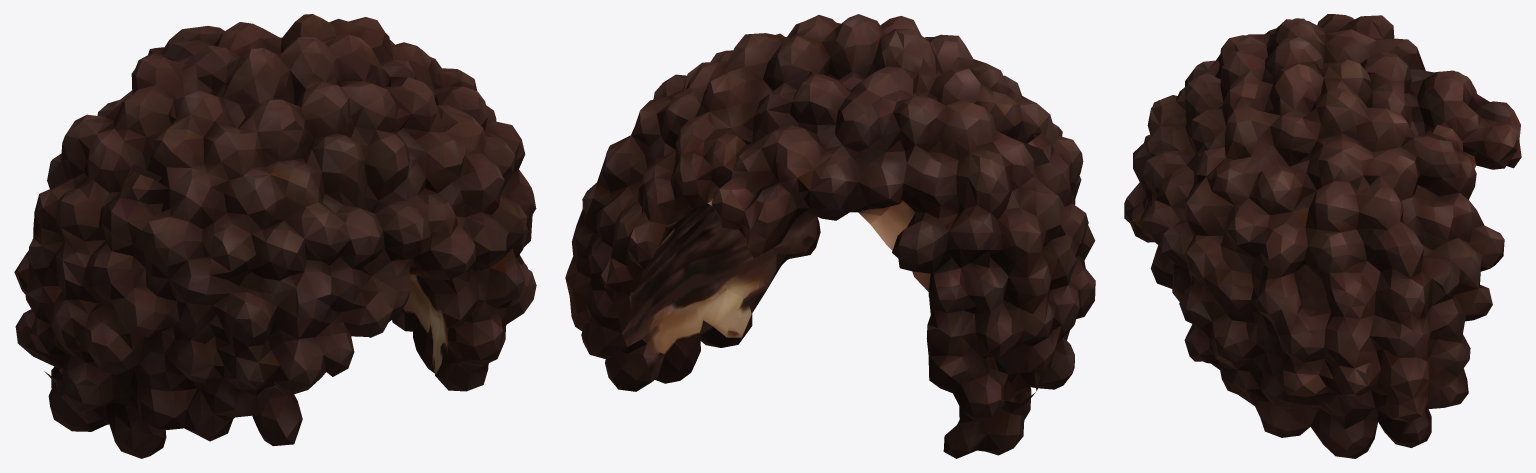
The model's file is hairstyle_056.glb.
The picture shows the model from 3 angles, left to right: view 1: azimuth 30°, elevation 25°; view 2: azimuth 150°, elevation 25°; view 3: azimuth 270°, elevation 25°; orthographic projection. The views are drawn at different scales.
Parts seen in each view (by area): view 1: geometry_0_056; view 2: geometry_0_056; view 3: geometry_0_056.
Part boxes in pixels (box(x1,y1,x2,y2)): geometry_0_056: box(14, 14, 536, 458); geometry_0_056: box(565, 14, 1095, 458); geometry_0_056: box(1124, 14, 1521, 458).
Bounding box in the file's own units: 1.38 × 1.09 × 1.14.
Materials: 1 (1 with a texture image).
